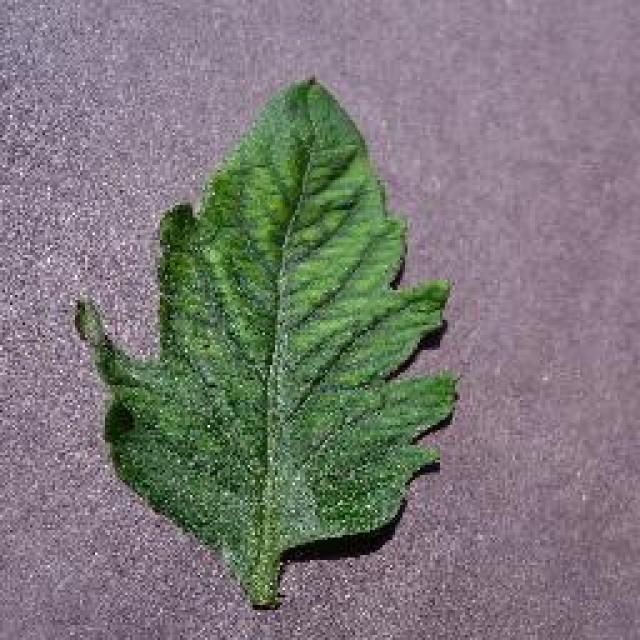Tomato spider mites leaf: (76, 72, 464, 572)
